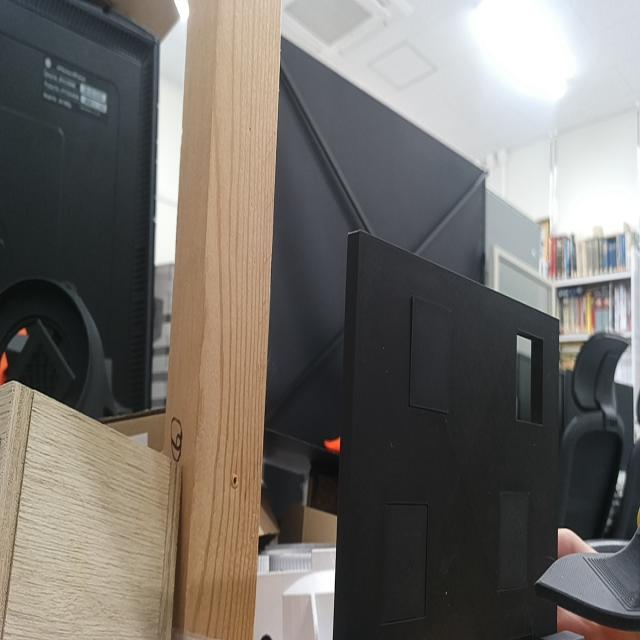Obstacle: (516, 329, 543, 426)
Wall: (347, 232, 560, 639)
